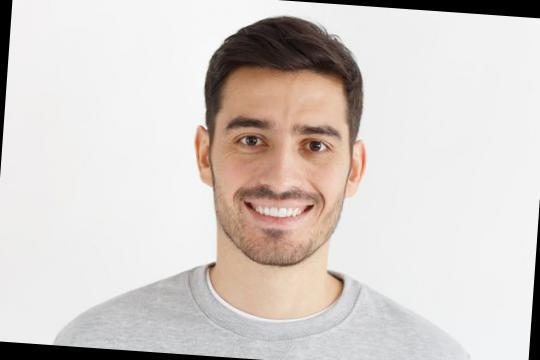Sober: (213, 66, 336, 254)
